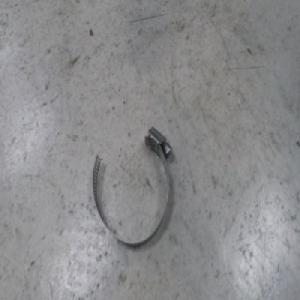AdjustableClamp: (90, 119, 176, 250)
